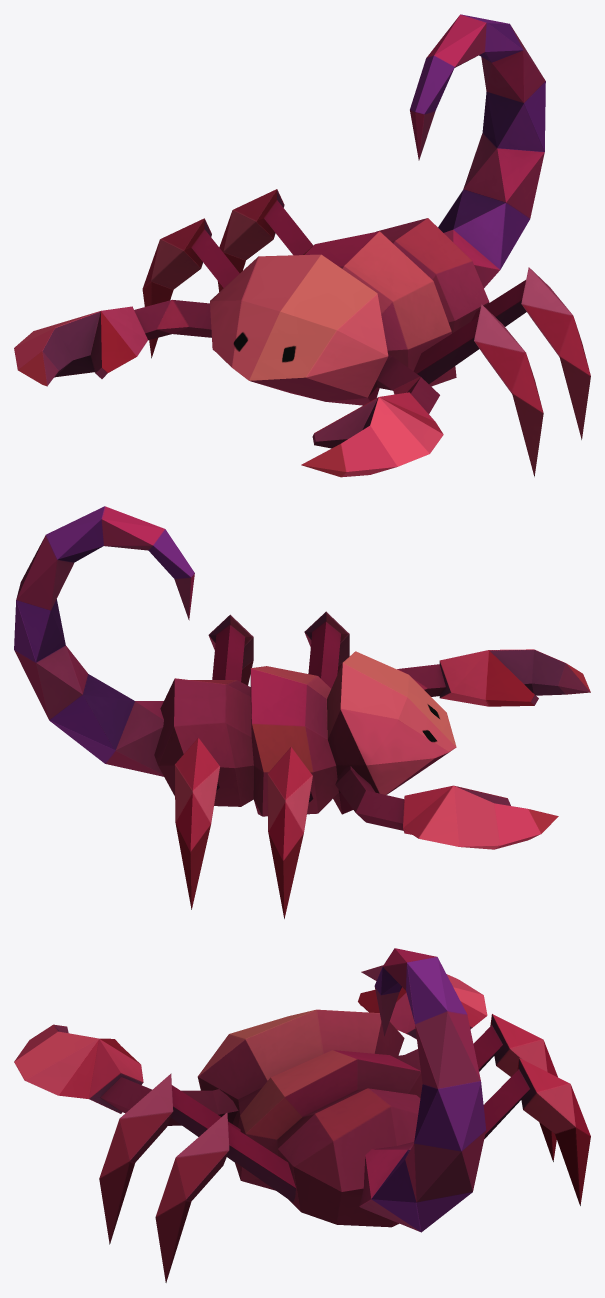
File: scorpion.glb
The picture shows the model from 3 angles, top to bottom: view 1: azimuth 30°, elevation 25°; view 2: azimuth 150°, elevation 25°; view 3: azimuth 270°, elevation 25°; orthographic projection. The views are drawn at different scales.
Parts seen in each view (by area): view 1: node_id39; view 2: node_id39; view 3: node_id39.
Part boxes in pixels (bbox=[...]): node_id39: bbox=[14, 14, 590, 477]; node_id39: bbox=[14, 506, 590, 918]; node_id39: bbox=[14, 948, 590, 1282].
Bounding box in the file's own units: 0.5319 × 0.3058 × 0.4806.
1 material, 1 textured.
